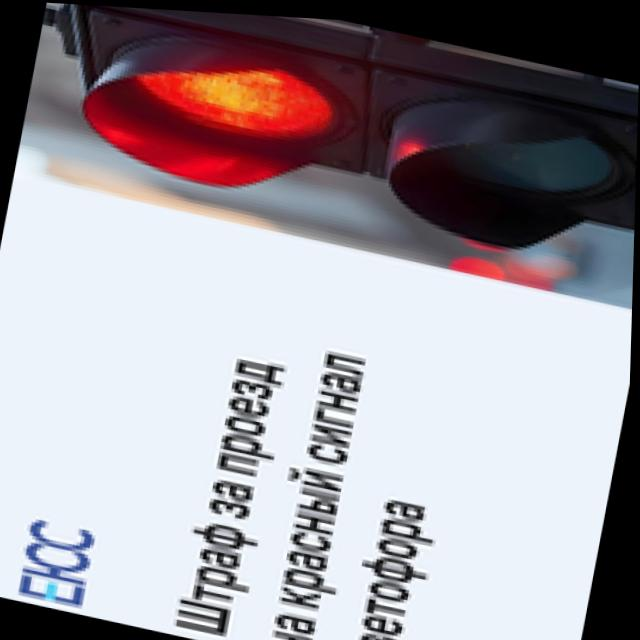red_light: (78, 4, 387, 280)
